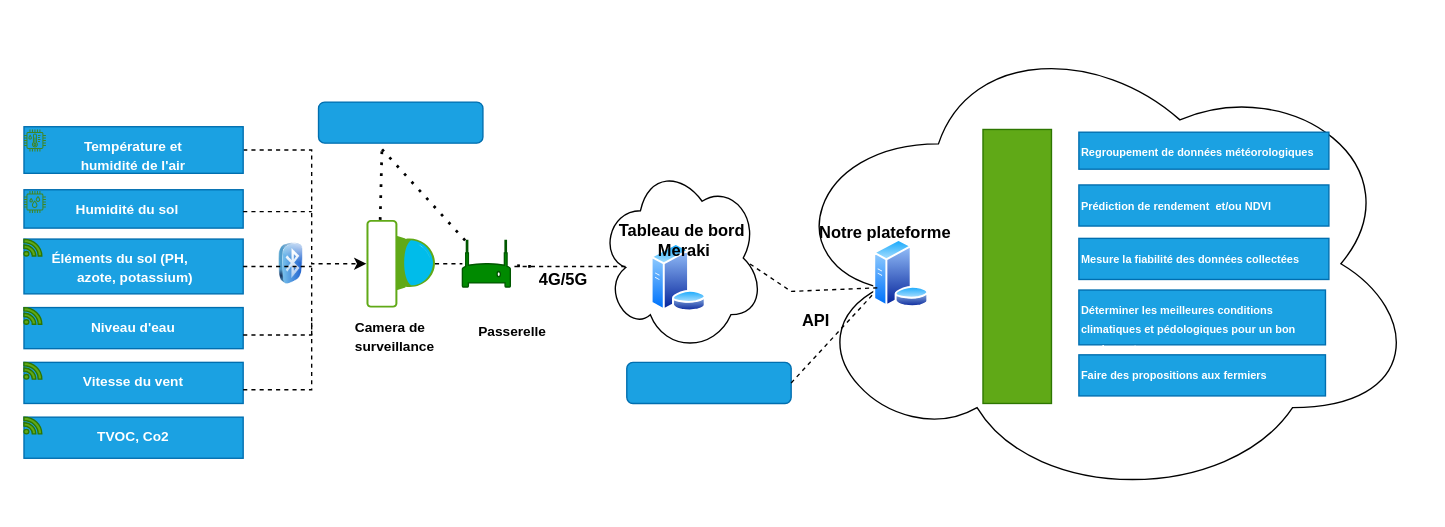
Some shapes in this 1445 by 527 pixel diagram are drawn without their labels. Here are the shapes that lost their labels. From the top down, the centre of each, then its label:
(x=400, y=122): Panneaux solaires et batterie
(x=1016, y=265): Stockage et traitement
(x=708, y=382): Données satellitaires
